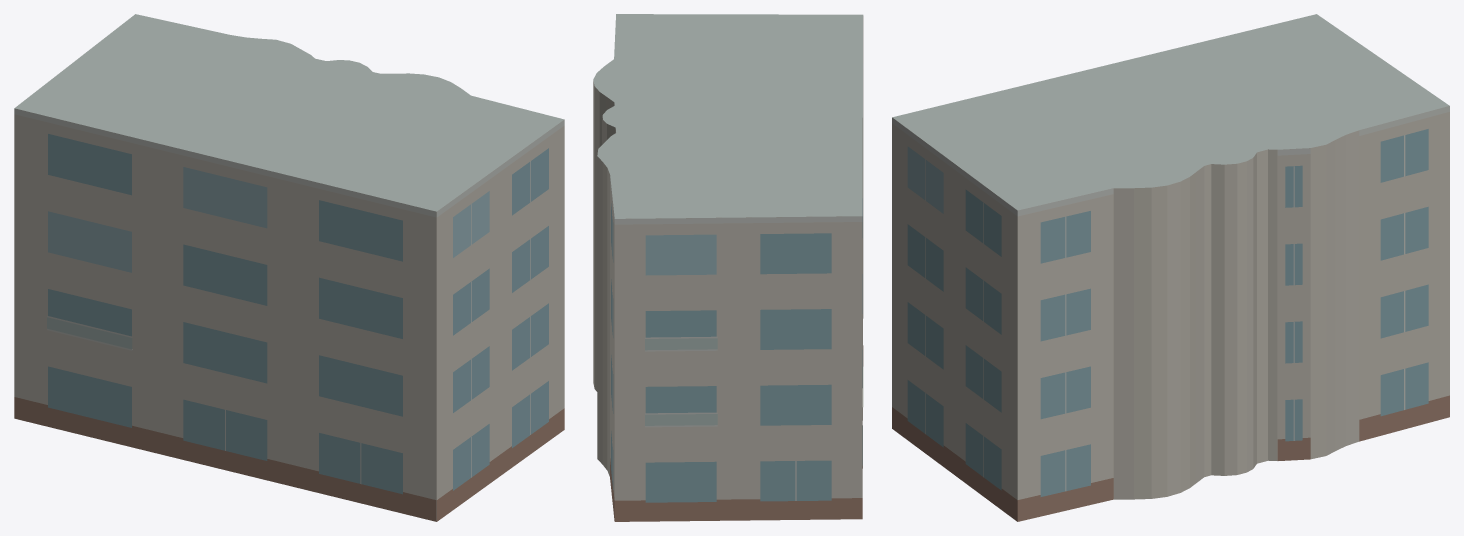
The model's file is survey-upis-33016380.glb.
3 renders of one model, left to right at view 1: azimuth 30°, elevation 25°; view 2: azimuth 150°, elevation 25°; view 3: azimuth 270°, elevation 25°, orthographic. The views are drawn at different scales.
Visible parts, largest first — view 1: survey-upis-33016380.tmp; view 2: survey-upis-33016380.tmp; view 3: survey-upis-33016380.tmp.
Part boxes in pixels (box(x1,y1,x2,y2)): survey-upis-33016380.tmp: box(14, 14, 564, 521); survey-upis-33016380.tmp: box(593, 14, 863, 521); survey-upis-33016380.tmp: box(892, 14, 1449, 521).
Size of the model in its own units: 17.34 by 12.8 by 20.79.
